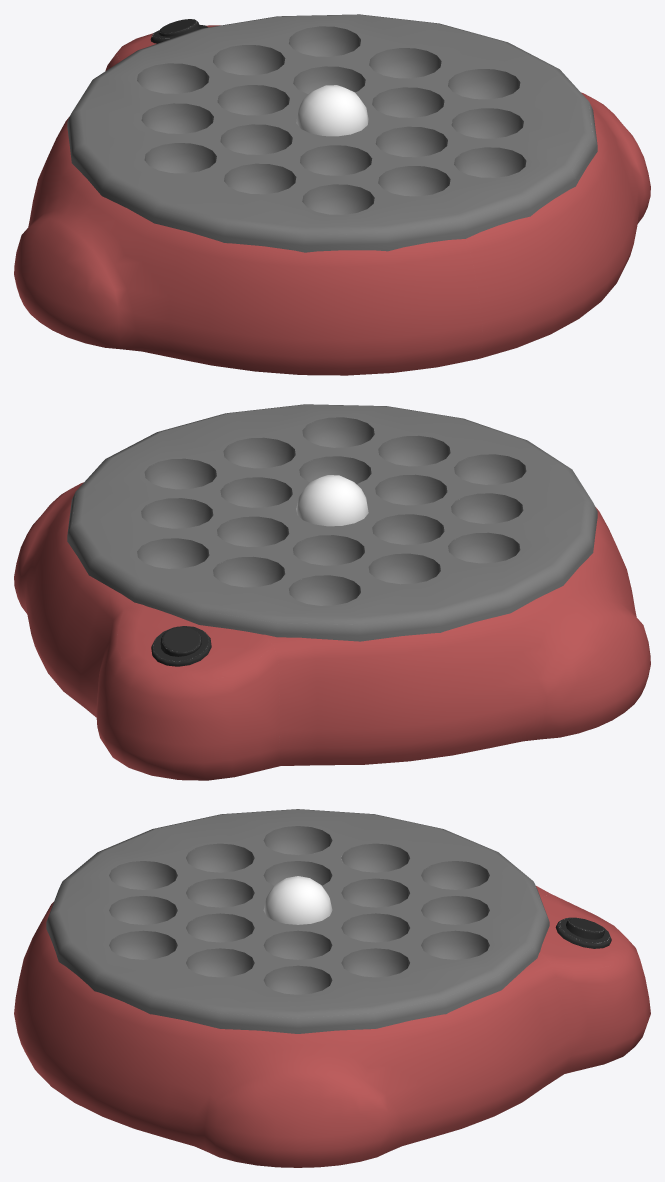
The model's file is Takoyaki_Pan.obj.
3 views of the same model, one above another, from view 1: azimuth 30°, elevation 25°; view 2: azimuth 150°, elevation 25°; view 3: azimuth 270°, elevation 25° (orthographic). The views are drawn at different scales.
Visible parts, largest first — view 1: Takoyaki_Pan_TopSG, Takoyaki_Pan_MainSG, Takoyaki_Pan_TakoyakiSG, Takoyaki_Pan_PowerSG; view 2: Takoyaki_Pan_TopSG, Takoyaki_Pan_MainSG, Takoyaki_Pan_TakoyakiSG, Takoyaki_Pan_PowerSG, Takoyaki_Pan_UnderPowerSG; view 3: Takoyaki_Pan_TopSG, Takoyaki_Pan_MainSG, Takoyaki_Pan_TakoyakiSG, Takoyaki_Pan_UnderPowerSG, Takoyaki_Pan_PowerSG.
Boxes of the visible parts, x1,y1,x2,y2 form: Takoyaki_Pan_TopSG: (67,14,597,252); Takoyaki_Pan_MainSG: (14,25,650,375); Takoyaki_Pan_TakoyakiSG: (296,85,368,136); Takoyaki_Pan_PowerSG: (158,19,200,36); Takoyaki_Pan_TopSG: (67,404,597,641); Takoyaki_Pan_MainSG: (14,482,650,780); Takoyaki_Pan_TakoyakiSG: (296,475,368,526); Takoyaki_Pan_PowerSG: (160,626,201,656); Takoyaki_Pan_UnderPowerSG: (151,626,211,666); Takoyaki_Pan_TopSG: (46,809,549,1033); Takoyaki_Pan_MainSG: (14,886,650,1167); Takoyaki_Pan_TakoyakiSG: (263,876,332,924); Takoyaki_Pan_UnderPowerSG: (555,917,611,948); Takoyaki_Pan_PowerSG: (566,918,604,939).
Size of the model in its own units: 3.76 by 0.9996 by 3.7.
Materials: 5 (5 with a texture image).
